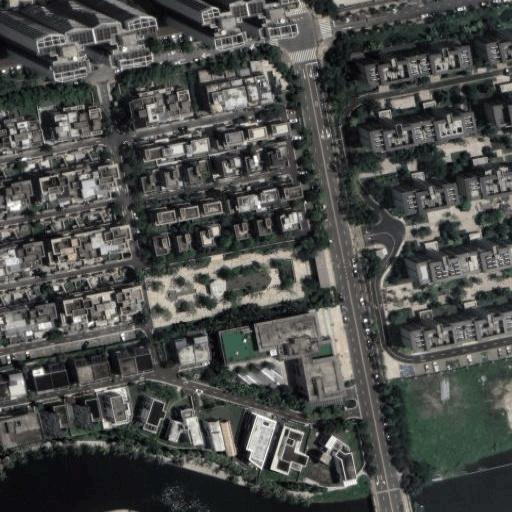building: (219, 315, 344, 402), (352, 39, 462, 81), (357, 105, 467, 146), (400, 304, 505, 345), (405, 236, 511, 276), (37, 163, 120, 205), (49, 223, 132, 265), (61, 286, 144, 326), (129, 87, 194, 129), (0, 7, 46, 62), (202, 73, 266, 109), (0, 301, 57, 338), (217, 122, 290, 150), (454, 160, 512, 194), (270, 425, 308, 475), (142, 137, 212, 164), (391, 176, 448, 207), (0, 411, 45, 450), (247, 414, 276, 471), (52, 106, 102, 138), (0, 240, 45, 274), (320, 436, 352, 483), (200, 61, 262, 84), (0, 118, 42, 149), (116, 346, 153, 378), (174, 333, 212, 364), (0, 179, 34, 212), (74, 354, 110, 385), (33, 361, 69, 392), (209, 420, 236, 458), (475, 29, 512, 56), (483, 91, 512, 121), (143, 399, 167, 434), (315, 249, 336, 288), (182, 409, 203, 447), (0, 369, 26, 398), (244, 148, 270, 172), (228, 194, 259, 214), (266, 142, 289, 168), (220, 155, 247, 177), (110, 395, 129, 423), (52, 404, 70, 430), (198, 227, 222, 246), (205, 272, 226, 293), (280, 213, 302, 233), (152, 234, 171, 255), (493, 71, 512, 91), (86, 398, 101, 421), (161, 170, 180, 188), (233, 223, 251, 241), (259, 190, 281, 204), (176, 233, 193, 251), (187, 165, 203, 184), (203, 201, 223, 216), (179, 206, 200, 220), (141, 174, 157, 192), (257, 219, 273, 237), (156, 211, 175, 225), (284, 186, 302, 200), (501, 303, 512, 323)
